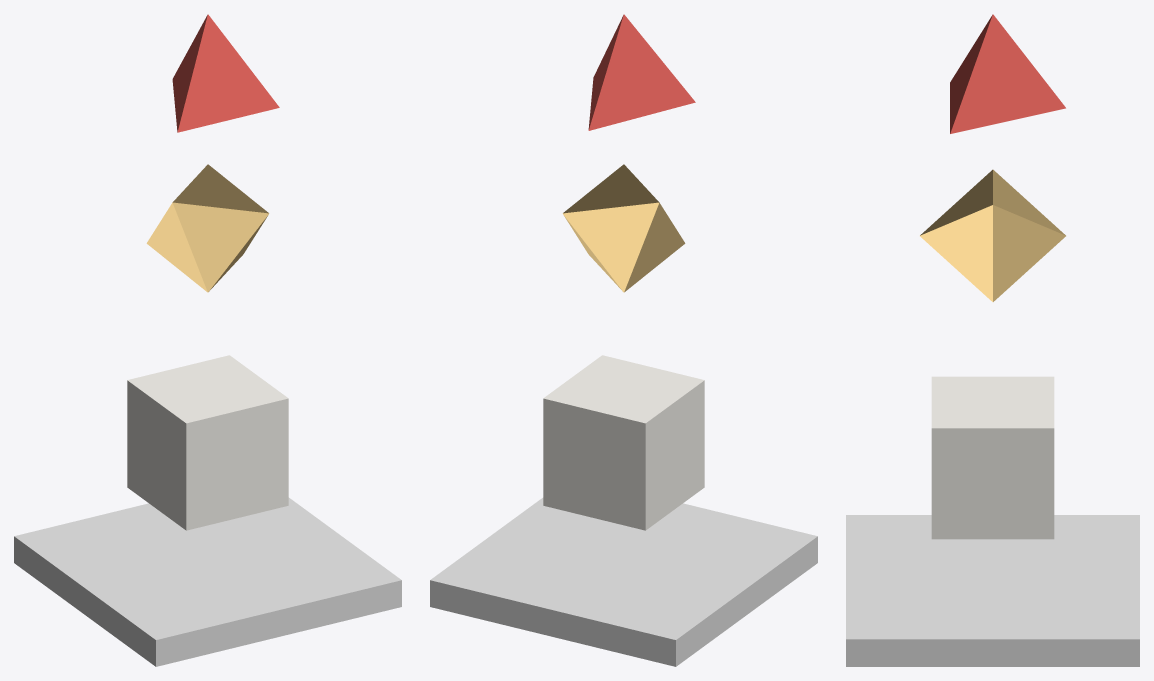
The model's file is shapes.glb.
3 views of the same model, side by side, from view 1: azimuth 30°, elevation 25°; view 2: azimuth 150°, elevation 25°; view 3: azimuth 270°, elevation 25° (orthographic). The views are drawn at different scales.
Visible parts, largest first — view 1: plinth, silver cube, gold octahedron, red tetrahedron; view 2: plinth, silver cube, gold octahedron, red tetrahedron; view 3: plinth, silver cube, gold octahedron, red tetrahedron.
Part boxes in pixels (left/top/right/bottom): plinth: left=14, top=497, right=401, bottom=666; silver cube: left=127, top=355, right=288, bottom=530; gold octahedron: left=146, top=164, right=269, bottom=292; red tetrahedron: left=172, top=14, right=279, bottom=132; plinth: left=430, top=497, right=817, bottom=666; silver cube: left=543, top=355, right=704, bottom=530; gold octahedron: left=562, top=164, right=685, bottom=292; red tetrahedron: left=588, top=14, right=695, bottom=130; plinth: left=846, top=515, right=1139, bottom=666; silver cube: left=931, top=376, right=1054, bottom=539; gold octahedron: left=920, top=169, right=1065, bottom=301; red tetrahedron: left=950, top=14, right=1065, bottom=133.
Bounding box in the file's own units: 2.4 × 5.33 × 2.4.
